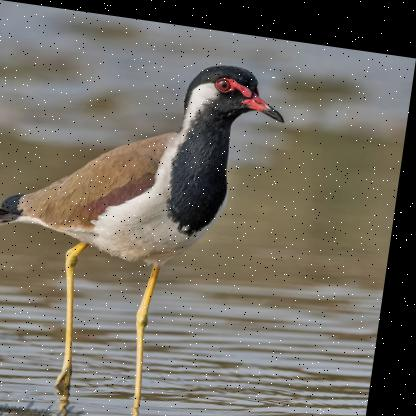Burung: (0, 34, 291, 413)
